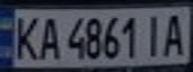1: (118, 12, 142, 60)
4: (63, 13, 87, 60)
6: (103, 12, 124, 60)
8: (81, 14, 106, 61)
A: (157, 10, 190, 57), (36, 14, 63, 61)
I: (139, 11, 169, 58)
K: (9, 12, 42, 61)
